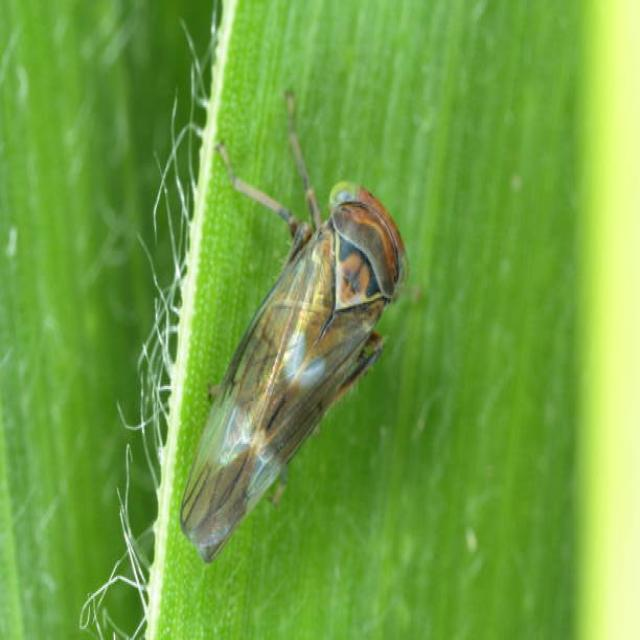Yechan: (156, 156, 428, 575)
